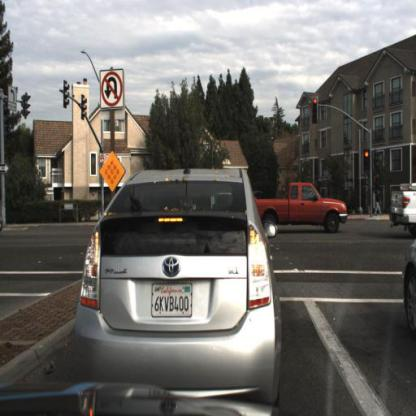car: (70, 160, 283, 408), (251, 170, 352, 242), (401, 228, 416, 341), (390, 178, 416, 239)
pedestrian: (371, 182, 384, 224)
trafficLight-Red: (361, 145, 373, 176), (312, 95, 321, 126)
